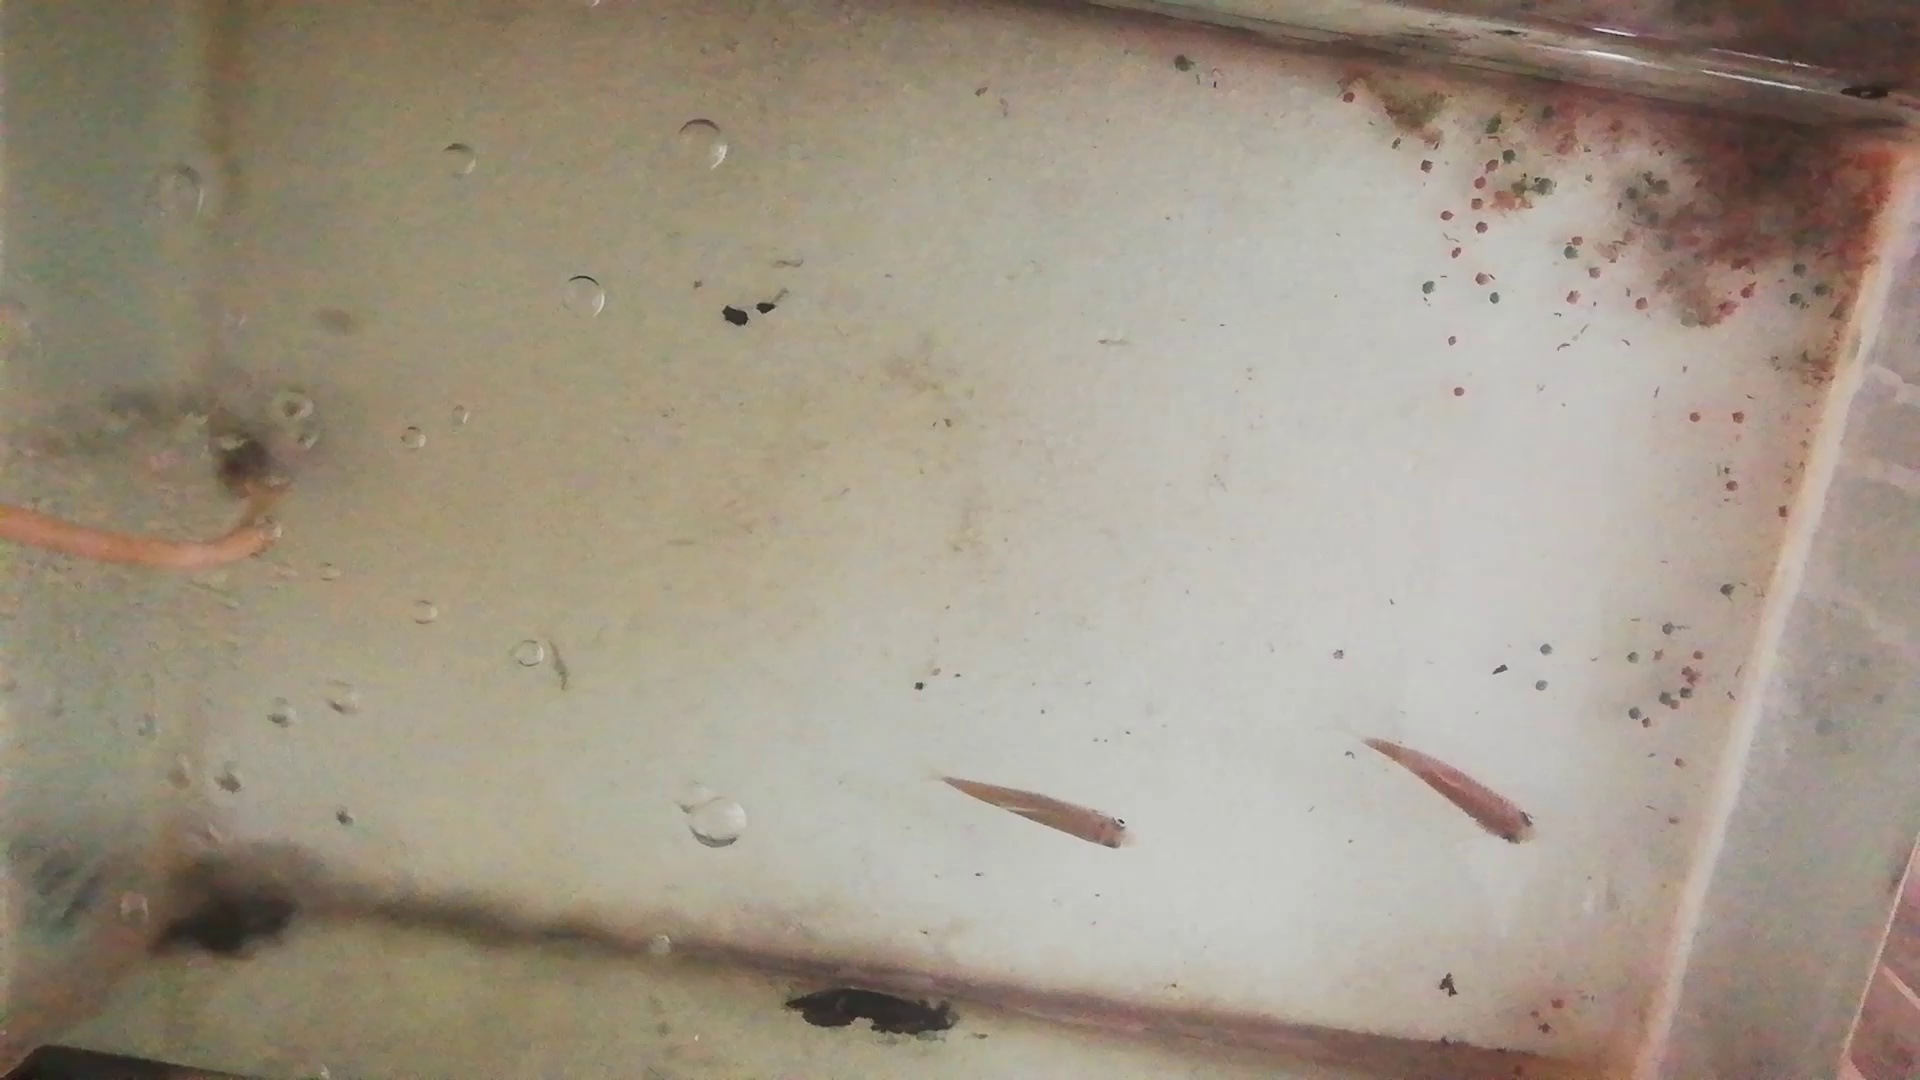fish: (1360, 738, 1544, 847), (940, 771, 1134, 858)
